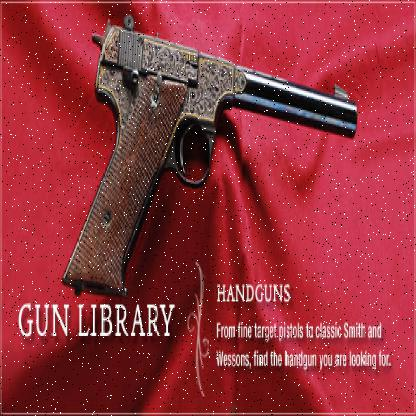pistol: (54, 14, 358, 295)
